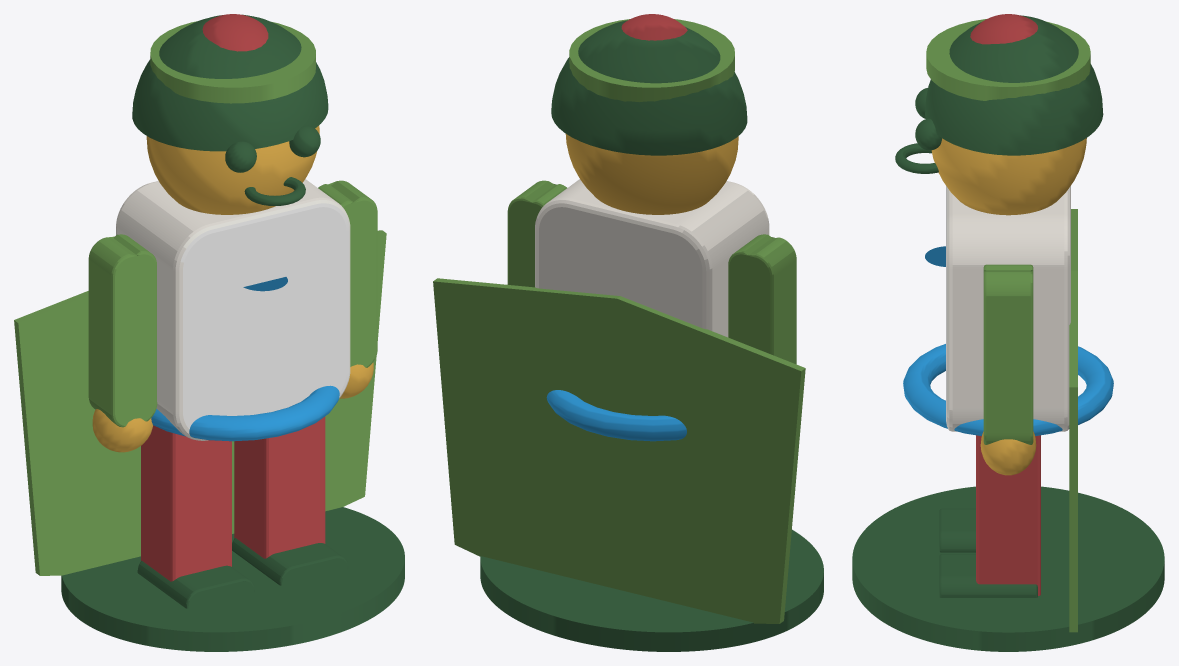
3 renders of one model, left to right at view 1: azimuth 30°, elevation 25°; view 2: azimuth 150°, elevation 25°; view 3: azimuth 270°, elevation 25°, orthographic.
Parts seen in each view (by area): view 1: card_1125; view 2: card_1125; view 3: card_1125.
Boxes of the visible parts, left/top/right/bottom form: card_1125: left=14, top=14, right=404, bottom=651; card_1125: left=433, top=14, right=823, bottom=651; card_1125: left=852, top=14, right=1164, bottom=651.
Bounding box in the file's own units: 0.668 × 1 × 0.4948.
